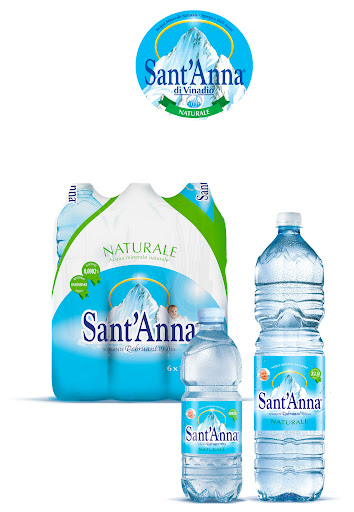PlasticBottle: (250, 196, 333, 504), (171, 301, 251, 503)
